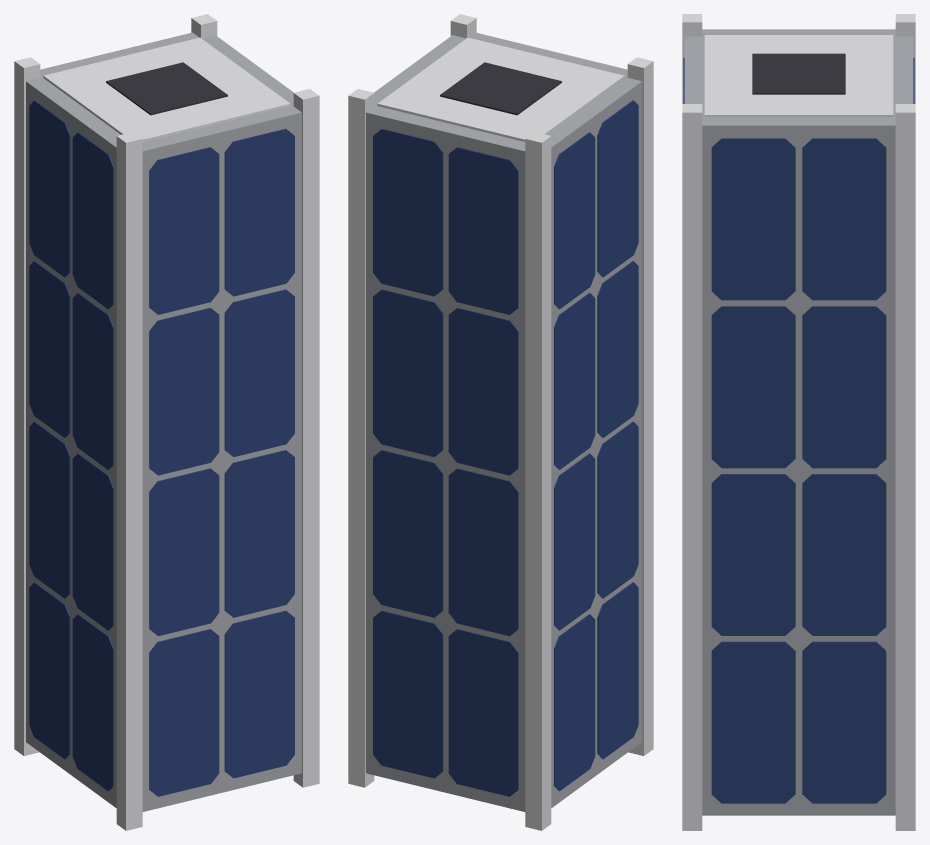
Rendered from CubeSat_3U.fbx.
3 renders of one model, left to right at view 1: azimuth 30°, elevation 25°; view 2: azimuth 150°, elevation 25°; view 3: azimuth 270°, elevation 25°, orthographic. The views are drawn at different scales.
Parts seen in each view (by area): view 1: CubeSat_3U; view 2: CubeSat_3U; view 3: CubeSat_3U.
Boxes of the visible parts, box(x1,y1,x2,y2) form: CubeSat_3U: box(14, 14, 319, 830); CubeSat_3U: box(348, 14, 653, 830); CubeSat_3U: box(682, 14, 915, 830).
Bounding box in the file's own units: 0.1 × 0.34 × 0.1.
